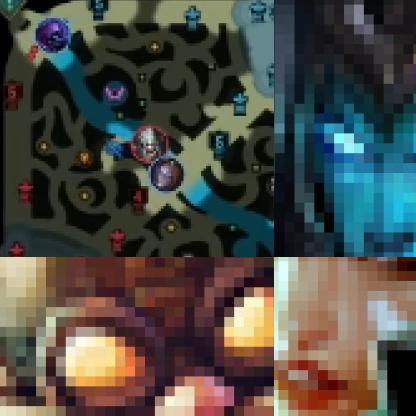Corki: (0, 257, 273, 415)
Jax: (34, 16, 70, 54)
Kalista: (274, 0, 415, 256)
Orianna: (149, 156, 185, 192)
Riven: (274, 257, 415, 415)
Tryndamere: (132, 125, 170, 164)
